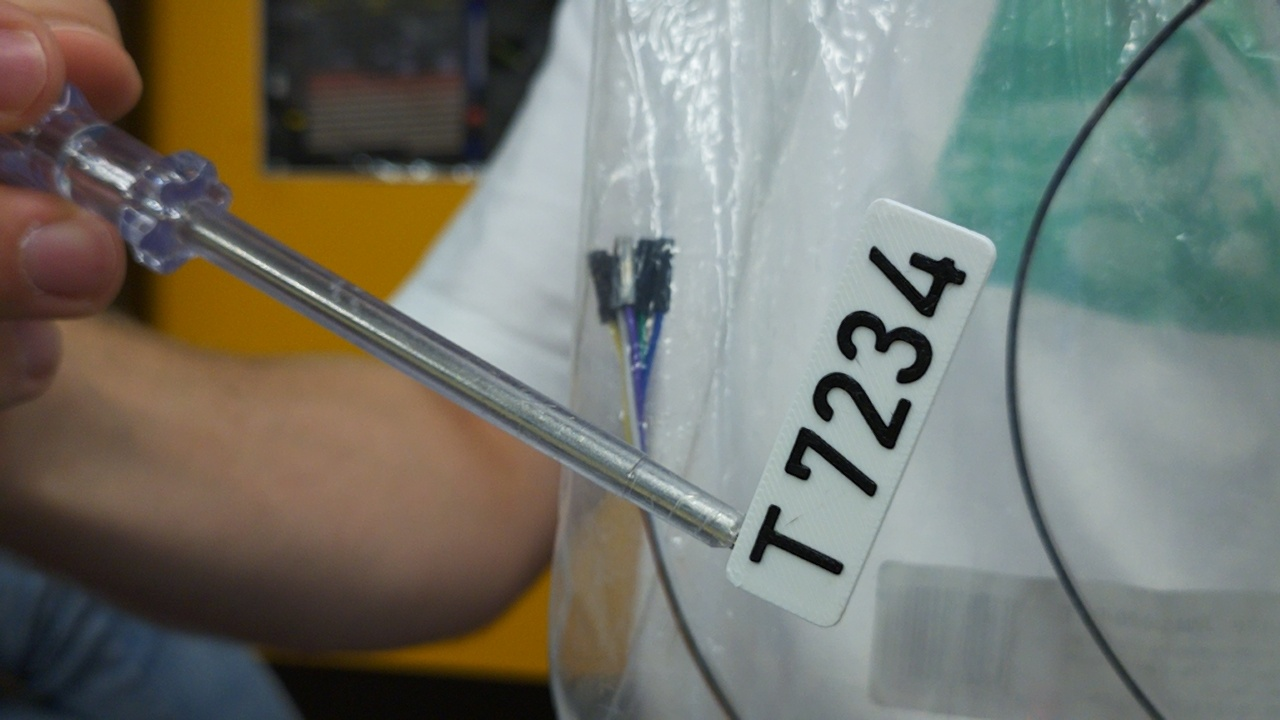license_plate: (723, 194, 999, 632)
